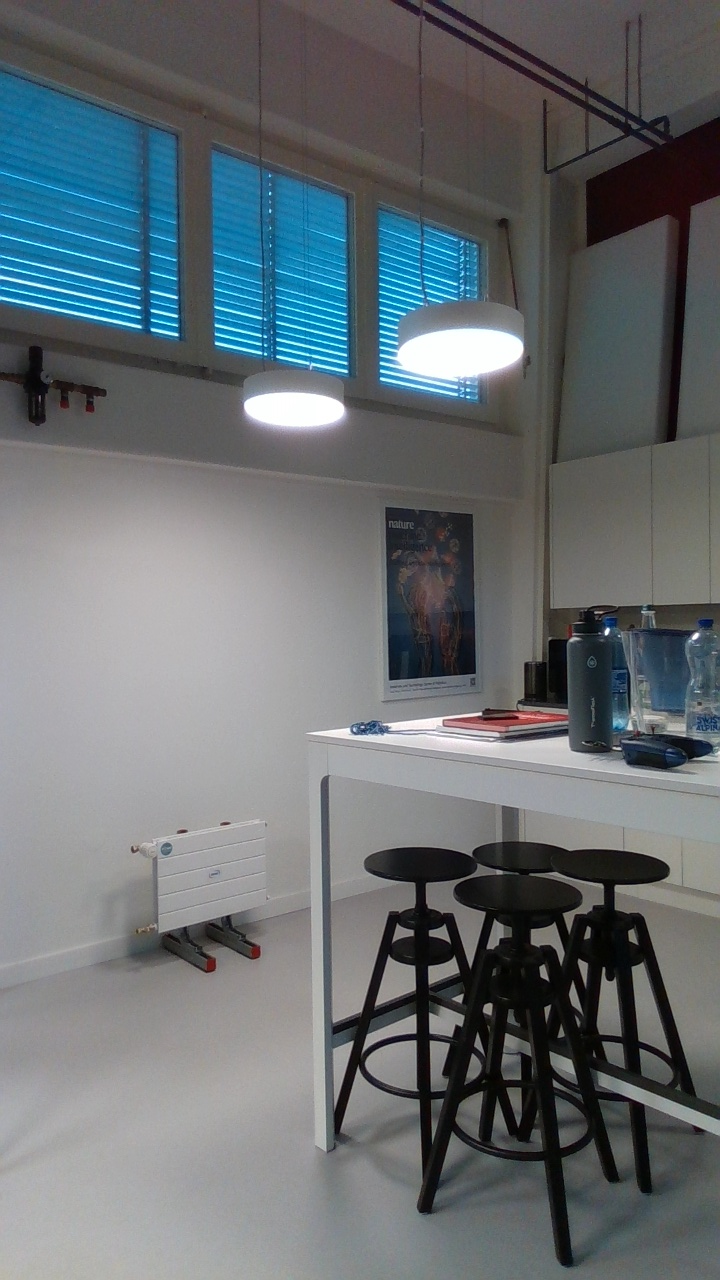Radiator: (145, 816, 270, 933)
